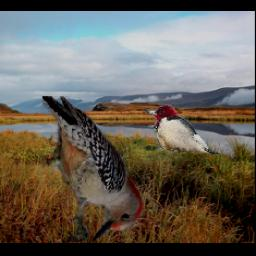Woodpecker: (42, 97, 143, 241), (144, 105, 222, 155)
